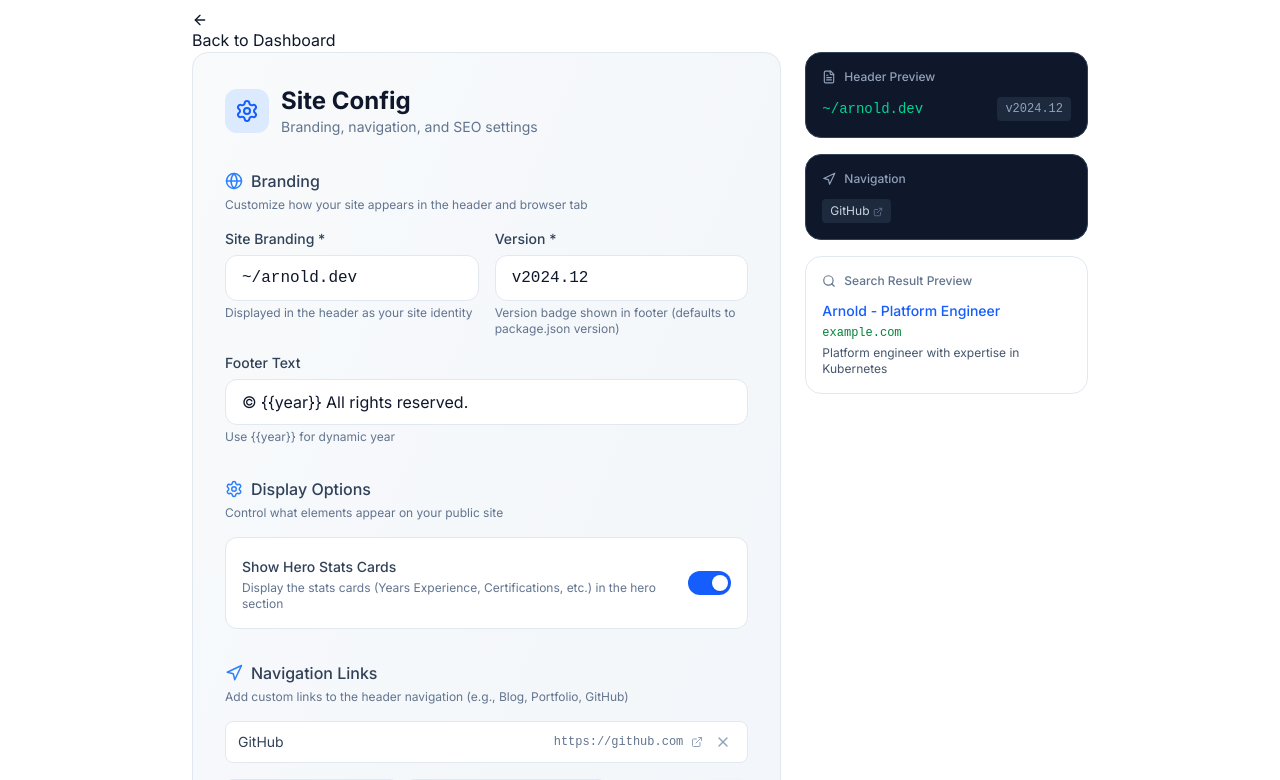
Test: SiteConfigEditor › navigation links › allows removing nav links
Click the button without text next to "https://github.com" at (723, 742), box [711,730,735,754]
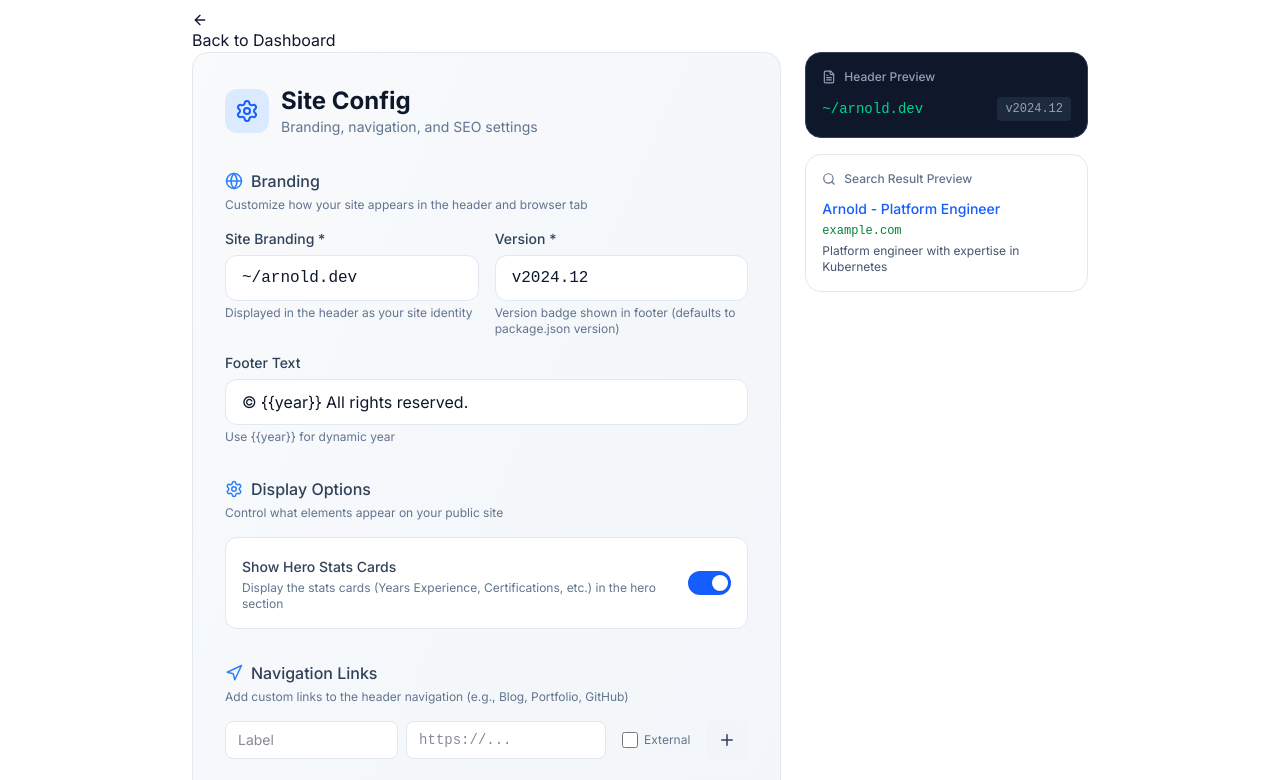
Now the text "https://github.com" is gone
